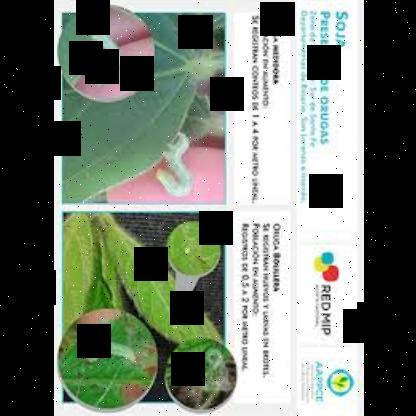oruga: (153, 129, 193, 197), (86, 10, 118, 84), (84, 337, 140, 365)
